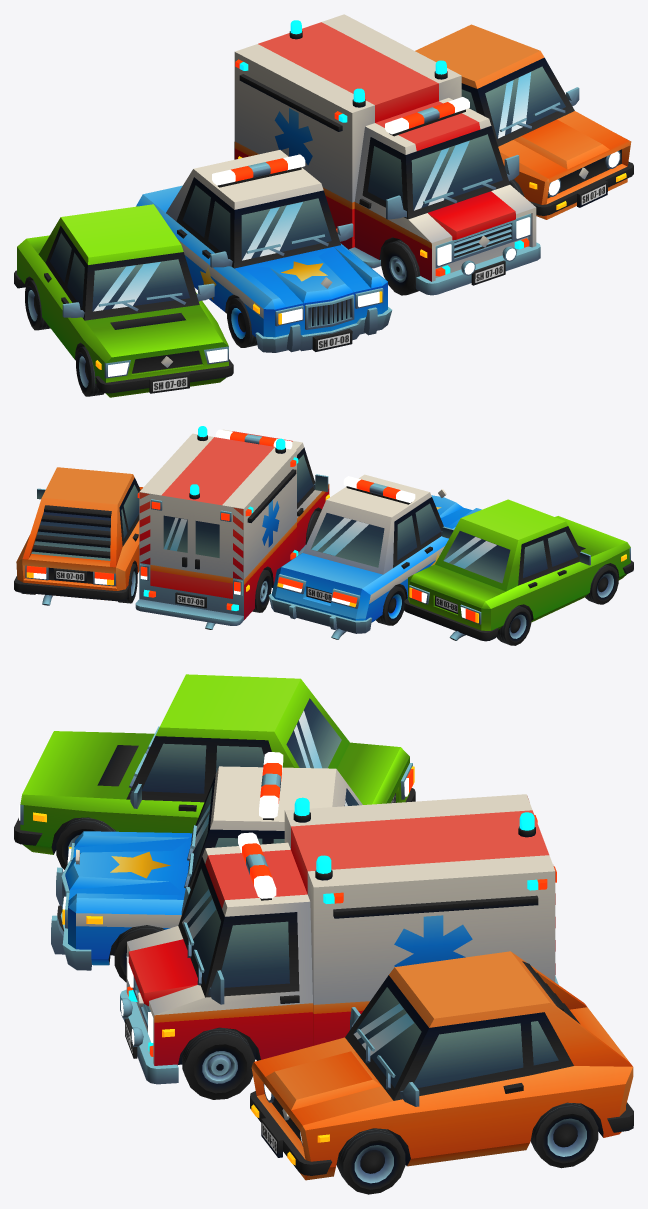
File: 4_low_poly_toon_city_cars.glb
The picture shows the model from 3 angles, top to bottom: view 1: azimuth 30°, elevation 25°; view 2: azimuth 150°, elevation 25°; view 3: azimuth 270°, elevation 25°; orthographic projection. The views are drawn at different scales.
Parts seen in each view (by area): view 1: SHTV_Model_Car_Ambulance, SHTV_Model_Car_Police, SHTV_Model_Car_Sedan, SHTV_Model_Car_Hatchback, SHTV_Model_Wheel_Ambulance_FR, SHTV_Model_Wheel_Police_FR, SHTV_Model_Wheel_Sedan_FR, SHTV_Model_Wheel_Sedan_BR; view 2: SHTV_Model_Car_Ambulance, SHTV_Model_Car_Sedan, SHTV_Model_Car_Police, SHTV_Model_Car_Hatchback, SHTV_Model_Wheel_Sedan_BR, SHTV_Model_Wheel_Sedan_FR, SHTV_Model_Wheel_Police_BR, SHTV_Model_Wheel_Ambulance_BR, SHTV_Model_Wheel_Hatchback_BR; view 3: SHTV_Model_Car_Ambulance, SHTV_Model_Car_Hatchback, SHTV_Model_Car_Sedan, SHTV_Model_Car_Police, SHTV_Model_Wheel_Ambulance_FL, SHTV_Model_Wheel_Hatchback_FL, SHTV_Model_Wheel_Hatchback_BL, SHTV_Model_Wheel_Sedan_FL, SHTV_Model_Wheel_Police_FL.
Boxes of the visible parts, bbox=[...] form: SHTV_Model_Car_Ambulance: bbox=[234, 14, 540, 295]; SHTV_Model_Car_Police: bbox=[136, 150, 392, 352]; SHTV_Model_Car_Sedan: bbox=[14, 204, 233, 397]; SHTV_Model_Car_Hatchback: bbox=[415, 24, 633, 219]; SHTV_Model_Wheel_Ambulance_FR: bbox=[381, 239, 420, 295]; SHTV_Model_Wheel_Police_FR: bbox=[227, 297, 257, 347]; SHTV_Model_Wheel_Sedan_FR: bbox=[76, 346, 104, 396]; SHTV_Model_Wheel_Sedan_BR: bbox=[25, 280, 50, 330]; SHTV_Model_Car_Ambulance: bbox=[135, 426, 329, 629]; SHTV_Model_Car_Sedan: bbox=[404, 499, 633, 641]; SHTV_Model_Car_Police: bbox=[268, 474, 481, 639]; SHTV_Model_Car_Hatchback: bbox=[14, 467, 142, 605]; SHTV_Model_Wheel_Sedan_BR: bbox=[496, 605, 531, 645]; SHTV_Model_Wheel_Sedan_FR: bbox=[585, 564, 618, 604]; SHTV_Model_Wheel_Police_BR: bbox=[376, 585, 405, 625]; SHTV_Model_Wheel_Ambulance_BR: bbox=[252, 569, 271, 612]; SHTV_Model_Wheel_Hatchback_BR: bbox=[118, 563, 137, 603]; SHTV_Model_Car_Ambulance: bbox=[120, 794, 558, 1084]; SHTV_Model_Car_Hatchback: bbox=[250, 951, 633, 1180]; SHTV_Model_Car_Sedan: bbox=[14, 674, 415, 854]; SHTV_Model_Car_Police: bbox=[51, 752, 362, 970]; SHTV_Model_Wheel_Ambulance_FL: bbox=[182, 1027, 254, 1099]; SHTV_Model_Wheel_Hatchback_FL: bbox=[337, 1128, 405, 1194]; SHTV_Model_Wheel_Hatchback_BL: bbox=[530, 1102, 598, 1168]; SHTV_Model_Wheel_Sedan_FL: bbox=[56, 817, 115, 869]; SHTV_Model_Wheel_Police_FL: bbox=[114, 925, 164, 982].
Size of the model in its own units: 4.4 by 1.15 by 2.87.
Materials: 5 (5 with a texture image).
